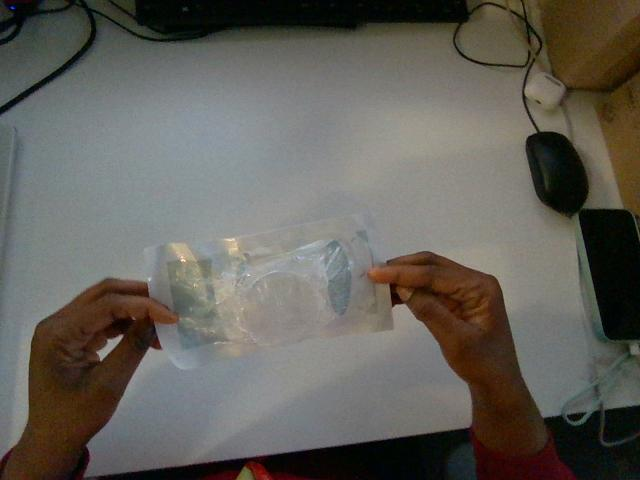gallipot: (145, 216, 392, 368)
